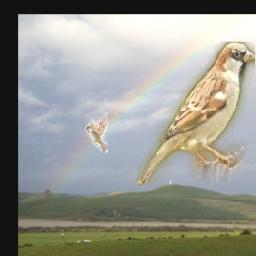Sparrow: (137, 42, 255, 186), (85, 113, 108, 154)
